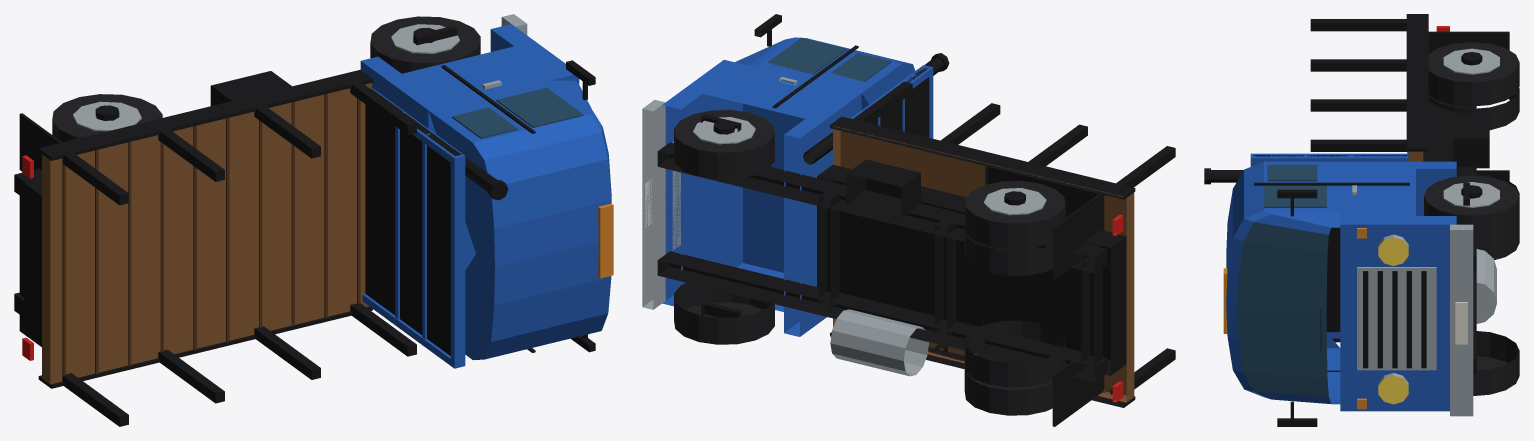
File: empty.glb
The picture shows the model from 3 angles, left to right: view 1: azimuth 30°, elevation 25°; view 2: azimuth 150°, elevation 25°; view 3: azimuth 270°, elevation 25°; orthographic projection. The views are drawn at different scales.
Parts seen in each view (by area): view 1: empty_deck, empty_cab_upper, empty_headboard, empty_side1_-3.60_1.67_black, empty_cab_arch, empty_front1, empty_rear_out1, empty_headboard_top, empty_subframe, empty_cab_back, empty_side_window1, empty_cab_front (+28 smaller); view 2: empty_subframe, empty_cab_arch, empty_chassis-1, empty_cab_front, empty_deck, empty_cab_back, empty_chassis1, empty_front1, empty_rear_out1, empty_fuel_tank, empty_bumper, empty_side1_-3.60_1.67_black (+24 smaller); view 3: empty_cab_upper, empty_cab_front, empty_grille, empty_rear_out1, empty_front1, empty_bumper, empty_cab_arch, empty_side1_-3.60_1.67_black, empty_front-1, empty_battery_box, empty_cab_back, empty_headboard (+26 smaller).
Boxes of the visible parts, x1,y1,x2,y2 form: empty_deck: (42,83,371,384); empty_cab_upper: (428,80,611,360); empty_headboard: (365,89,461,355); empty_side1_-3.60_1.67_black: (38,70,372,160); empty_cab_arch: (402,46,558,269); empty_front1: (370,16,480,73); empty_rear_out1: (52,94,162,142); empty_headboard_top: (450,153,465,367); empty_subframe: (24,179,41,335); empty_cab_back: (360,56,445,134); empty_side_window1: (496,87,583,127); empty_cab_front: (490,24,579,84); empty_subframe: (817,164,1126,375); empty_cab_arch: (703,64,845,311); empty_chassis-1: (657,251,1107,382); empty_cab_front: (662,60,742,306); empty_deck: (833,126,1134,402); empty_cab_back: (784,89,861,336); empty_chassis1: (657,142,1107,273); empty_front1: (674,110,774,179); empty_rear_out1: (964,181,1065,249); empty_fuel_tank: (830,309,929,376); empty_bumper: (642,99,665,309); empty_side1_-3.60_1.67_black: (830,116,1135,199); empty_cab_upper: (1226,161,1340,404); empty_cab_front: (1340,216,1456,411); empty_grille: (1357,267,1436,370); empty_rear_out1: (1428,42,1519,106); empty_front1: (1424,175,1519,240); empty_bumper: (1450,224,1473,416); empty_cab_arch: (1340,169,1415,215); empty_side1_-3.60_1.67_black: (1406,14,1428,151); empty_front-1: (1473,331,1519,395); empty_battery_box: (1453,113,1489,168); empty_cab_back: (1340,161,1456,215); empty_headboard: (1254,155,1408,332).
Bounding box in the file's own units: 7.56 × 3.9 × 4.75.
